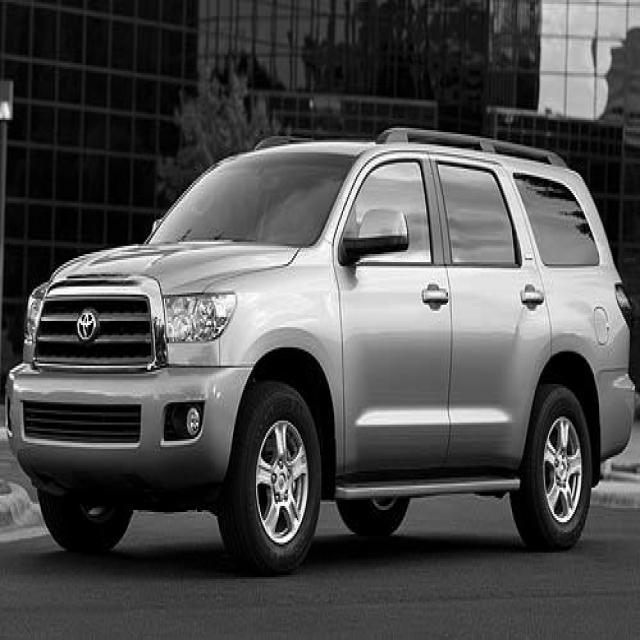car: (4, 124, 636, 575)
